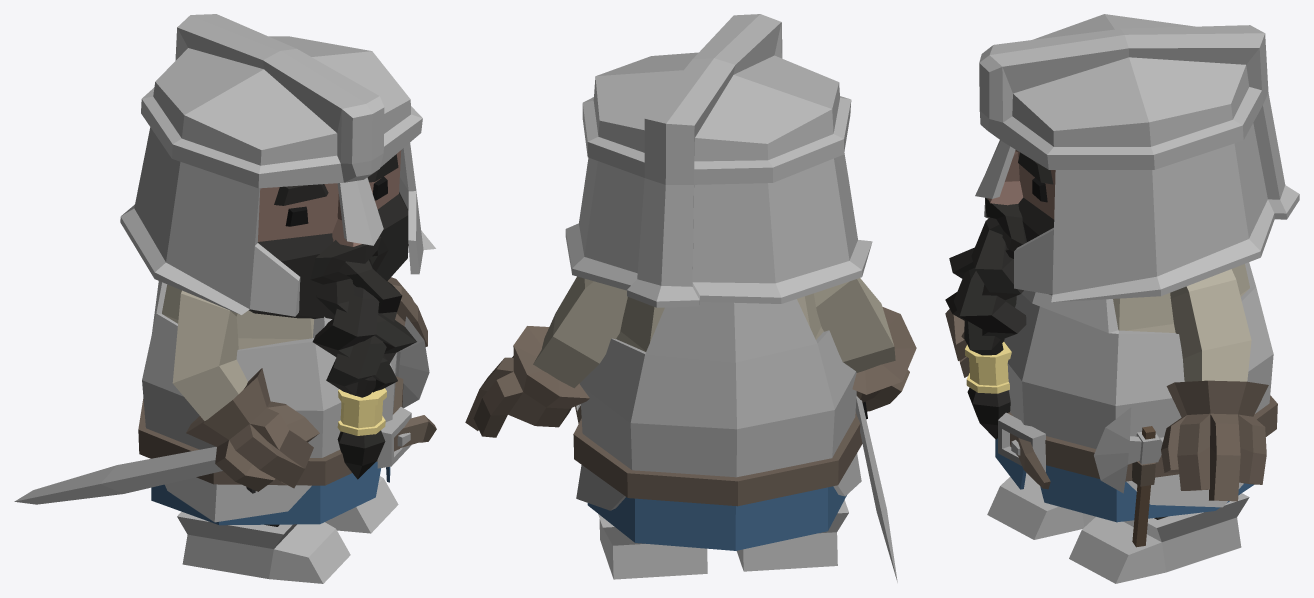
File: guerrier-1.glb
3 renders of one model, left to right at view 1: azimuth 30°, elevation 25°; view 2: azimuth 150°, elevation 25°; view 3: azimuth 270°, elevation 25°, orthographic. The views are drawn at different scales.
Parts seen in each view (by area): view 1: DwarfGuard_GEO4_CharTxt_MAT_0; view 2: DwarfGuard_GEO4_CharTxt_MAT_0; view 3: DwarfGuard_GEO4_CharTxt_MAT_0.
Boxes of the visible parts, box(x1,y1,x2,y2) form: DwarfGuard_GEO4_CharTxt_MAT_0: box(14, 14, 436, 583); DwarfGuard_GEO4_CharTxt_MAT_0: box(465, 14, 916, 582); DwarfGuard_GEO4_CharTxt_MAT_0: box(945, 14, 1299, 583).
Bounding box in the file's own units: 1.27 × 1.4 × 0.9138.
Materials: 1 (1 with a texture image).
